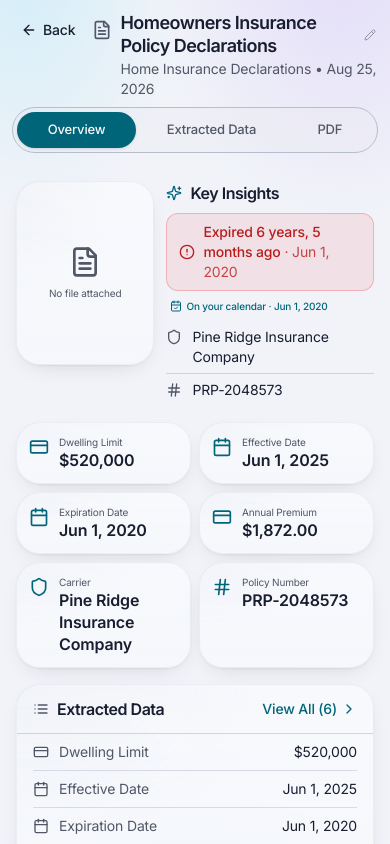
Test: the document view opens on the file › a document added without a file opens on the Overview and offers to attach one
This screenshot has width=390, height=844.
Expected: the element with test id "doc-thumbnail-none" is shown, [16,180,154,365]
Click the tab with test id "tab-doc-file".
click(330, 130)  # box [287,112,373,148]
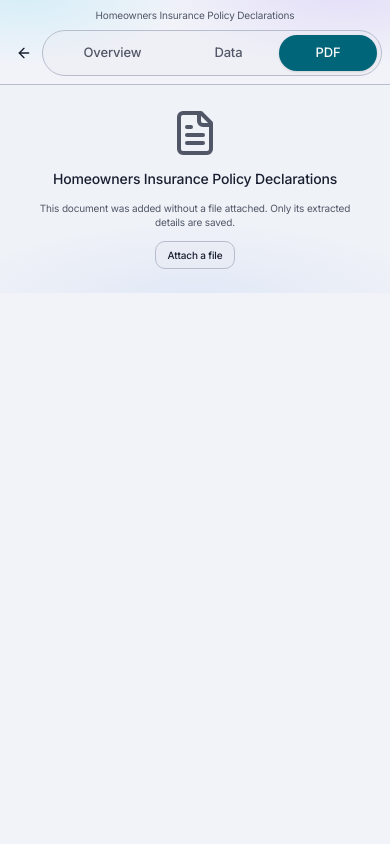
Expected: the file field with test id "input-attach-file" is shown, [155,240,235,268]
